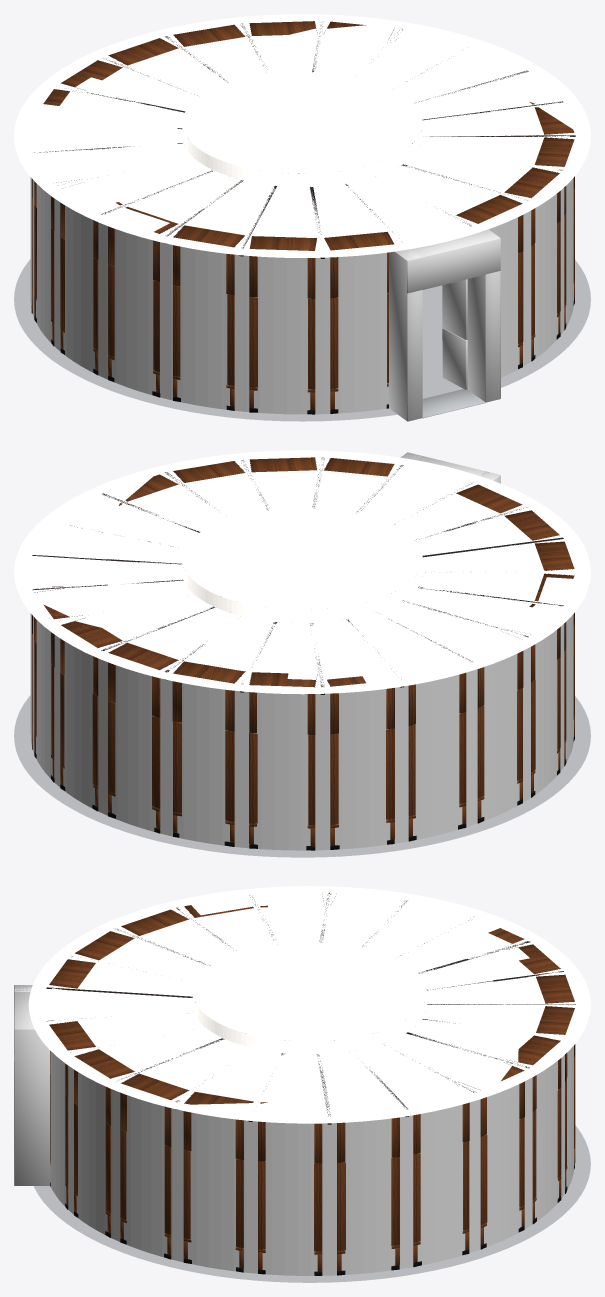
The model's file is sala_bassa.glb.
3 views of the same model, one above another, from view 1: azimuth 30°, elevation 25°; view 2: azimuth 150°, elevation 25°; view 3: azimuth 270°, elevation 25° (orthographic). The views are drawn at different scales.
Parts seen in each view (by area): view 1: Fisso_Soffitto, Fisso_Parete, Fisso_Legno, Fisso_SoffittoC, Fisso_BiancoLucido, Fisso_Pavimento, Fisso_Tamburo, Fisso_TrapezioB, Fisso_TrapezioC, Fisso_Trave, Fisso_Cromo, Fisso_Fuga; view 2: Fisso_Soffitto, Fisso_Parete, Fisso_Legno, Fisso_SoffittoC, Fisso_Pavimento, Fisso_Tamburo, Fisso_TrapezioB, Fisso_TrapezioC, Fisso_Trave, Fisso_Fuga, Fisso_Nicchia, Fisso_BiancoLucido; view 3: Fisso_Soffitto, Fisso_Parete, Fisso_Legno, Fisso_SoffittoC, Fisso_BiancoLucido, Fisso_Pavimento, Fisso_Tamburo, Fisso_TrapezioB, Fisso_TrapezioC, Fisso_Trave, Fisso_Nicchia.
Part boxes in pixels (x1=…): Fisso_Soffitto: x1=14, y1=14, x2=590, y2=257; Fisso_Parete: x1=30, y1=177, x2=573, y2=414; Fisso_Legno: x1=32, y1=21, x2=574, y2=409; Fisso_SoffittoC: x1=182, y1=72, x2=422, y2=173; Fisso_BiancoLucido: x1=318, y1=186, x2=500, y2=421; Fisso_Pavimento: x1=14, y1=259, x2=590, y2=421; Fisso_Tamburo: x1=182, y1=72, x2=422, y2=186; Fisso_TrapezioB: x1=38, y1=23, x2=569, y2=247; Fisso_TrapezioC: x1=107, y1=56, x2=498, y2=218; Fisso_Trave: x1=34, y1=22, x2=575, y2=258; Fisso_Cromo: x1=422, y1=389, x2=485, y2=418; Fisso_Fuga: x1=32, y1=23, x2=572, y2=298; Fisso_Soffitto: x1=14, y1=450, x2=590, y2=694; Fisso_Parete: x1=30, y1=613, x2=573, y2=850; Fisso_Legno: x1=32, y1=457, x2=574, y2=846; Fisso_SoffittoC: x1=182, y1=508, x2=422, y2=609; Fisso_Pavimento: x1=14, y1=695, x2=590, y2=857; Fisso_Tamburo: x1=182, y1=562, x2=422, y2=622; Fisso_TrapezioB: x1=38, y1=459, x2=559, y2=684; Fisso_TrapezioC: x1=107, y1=489, x2=491, y2=655; Fisso_Trave: x1=32, y1=457, x2=563, y2=694; Fisso_Fuga: x1=32, y1=457, x2=574, y2=734; Fisso_Nicchia: x1=32, y1=735, x2=574, y2=850; Fisso_BiancoLucido: x1=391, y1=452, x2=500, y2=593; Fisso_Soffitto: x1=28, y1=886, x2=590, y2=1123; Fisso_Parete: x1=50, y1=1046, x2=574, y2=1275; Fisso_Legno: x1=49, y1=905, x2=575, y2=1271; Fisso_SoffittoC: x1=192, y1=942, x2=426, y2=1041; Fisso_BiancoLucido: x1=14, y1=985, x2=50, y2=1185; Fisso_Pavimento: x1=34, y1=1125, x2=590, y2=1282; Fisso_Tamburo: x1=192, y1=943, x2=426, y2=1054; Fisso_TrapezioB: x1=51, y1=895, x2=570, y2=1114; Fisso_TrapezioC: x1=135, y1=924, x2=493, y2=1083; Fisso_Trave: x1=46, y1=892, x2=575, y2=1124; Fisso_Nicchia: x1=50, y1=1164, x2=574, y2=1275.
Bounding box in the file's own units: 9.6 × 3.24 × 9.85.
Materials: 50 (1 with a texture image).
